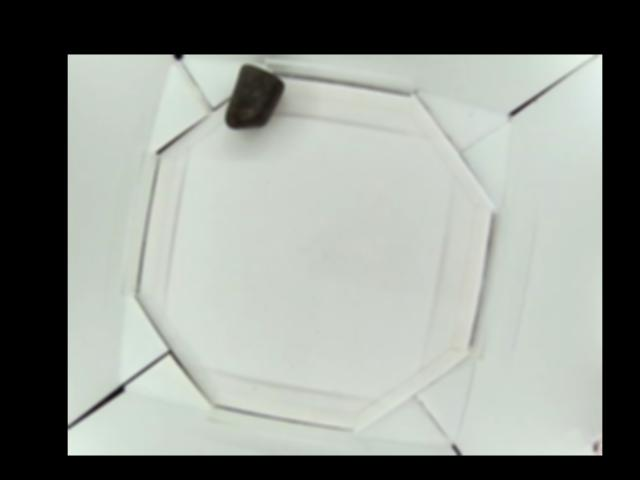Pebble: (228, 66, 284, 128)
